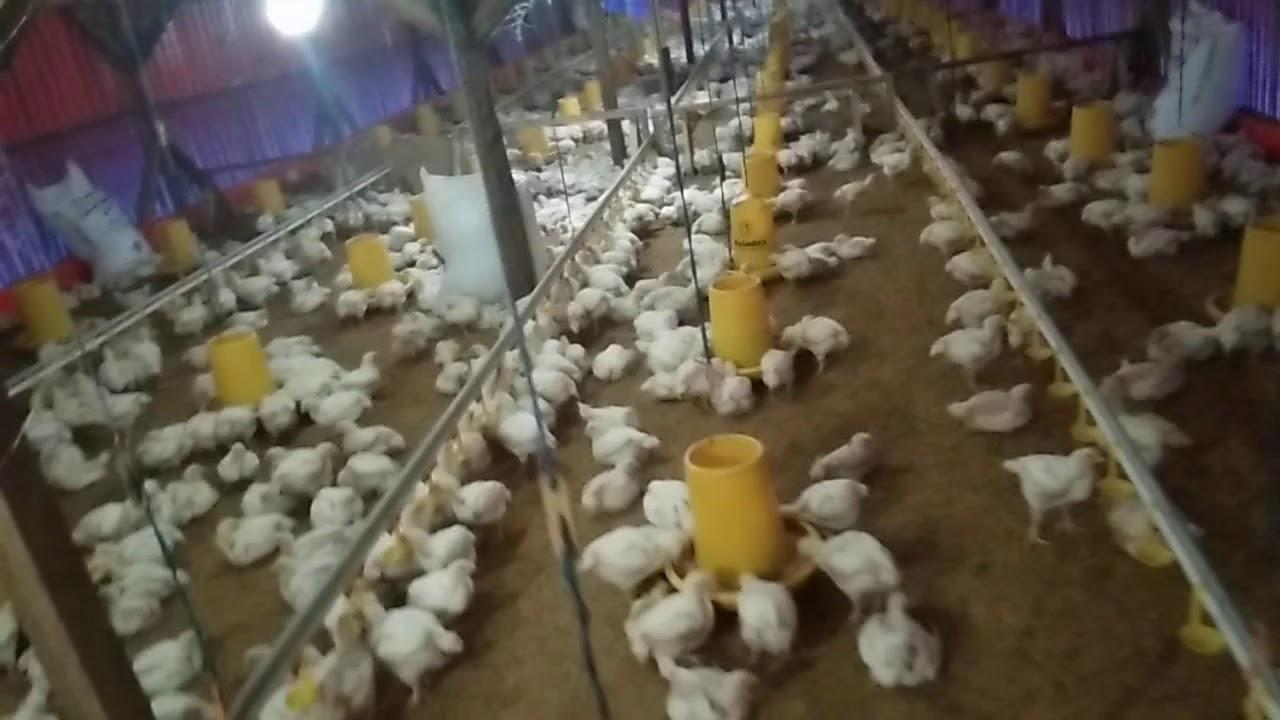chicken: (356, 584, 462, 700), (1000, 445, 1105, 539), (1103, 473, 1197, 570), (629, 569, 721, 661), (798, 531, 905, 609), (861, 591, 944, 686), (581, 524, 693, 594), (656, 650, 759, 720), (739, 569, 799, 661), (929, 313, 1009, 381), (946, 380, 1037, 437), (787, 479, 870, 532), (413, 556, 477, 616), (401, 521, 476, 570), (583, 416, 661, 462), (780, 317, 851, 367), (584, 456, 644, 511), (815, 433, 876, 476), (709, 364, 757, 414), (457, 479, 511, 521), (946, 244, 1001, 284), (759, 346, 799, 394), (589, 344, 634, 382), (833, 231, 879, 264)
